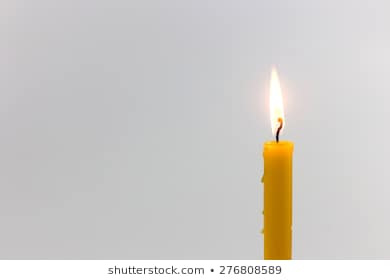Fire: (265, 70, 293, 136)
